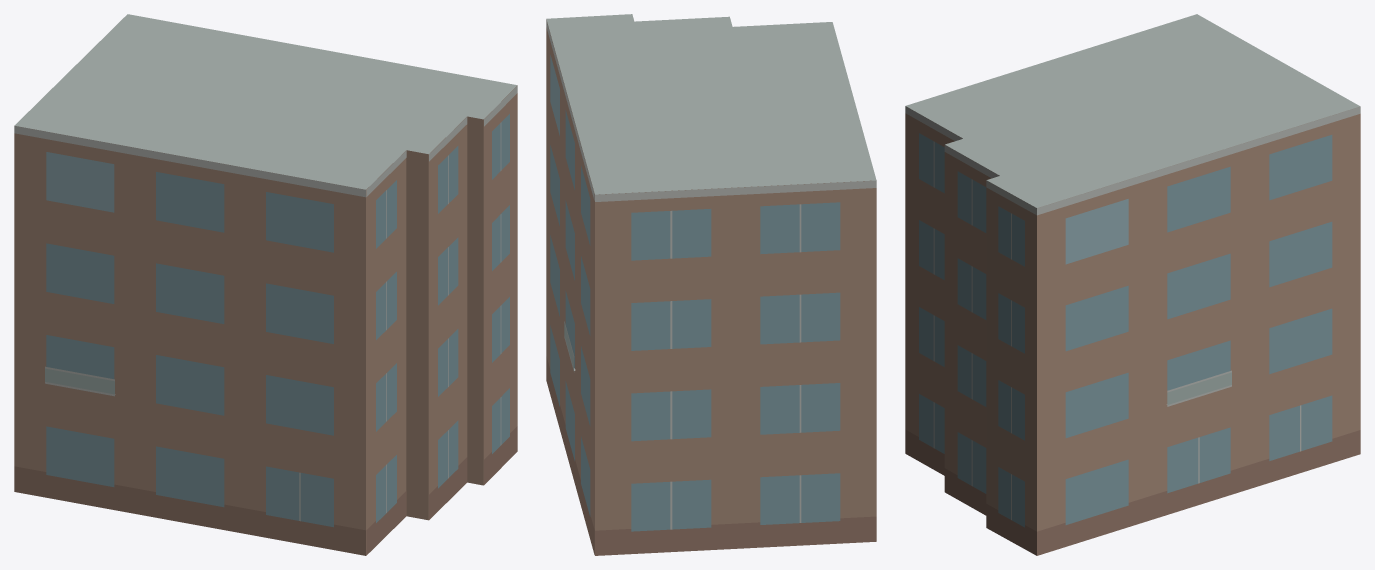
File: survey-upis-32740435.glb
The picture shows the model from 3 angles, left to right: view 1: azimuth 30°, elevation 25°; view 2: azimuth 150°, elevation 25°; view 3: azimuth 270°, elevation 25°; orthographic projection. The views are drawn at different scales.
Visible parts, largest first — view 1: survey-upis-32740435.tmp; view 2: survey-upis-32740435.tmp; view 3: survey-upis-32740435.tmp.
Boxes of the visible parts, x1,y1,x2,y2 form: survey-upis-32740435.tmp: [14, 14, 517, 555]; survey-upis-32740435.tmp: [546, 14, 876, 555]; survey-upis-32740435.tmp: [905, 14, 1360, 555].
Bounding box in the file's own units: 14.06 × 11.73 × 13.93.
